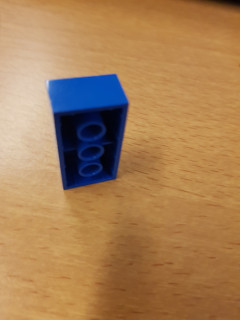2x4 blue: (43, 70, 134, 193)
